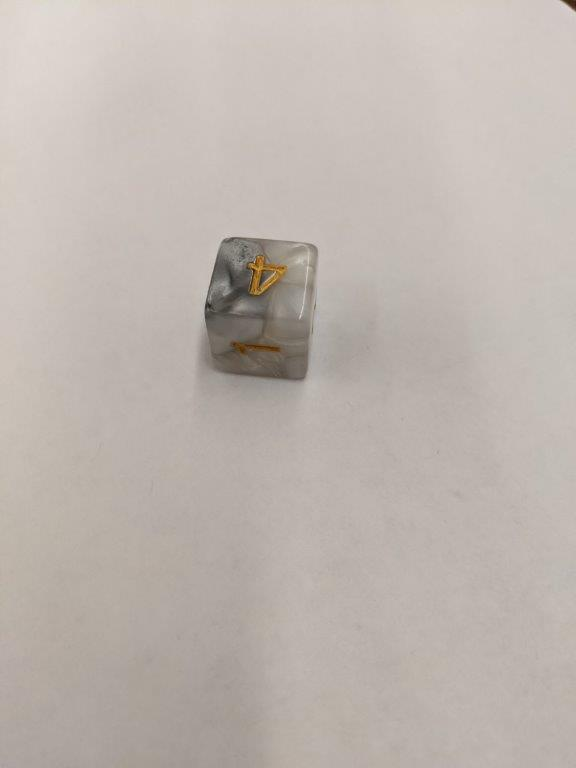d6-4: (202, 234, 320, 385)
